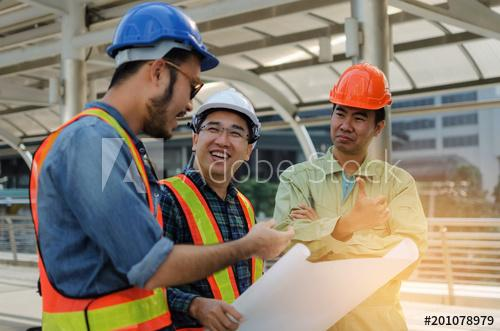helmet: (105, 3, 220, 73), (192, 89, 263, 143), (329, 63, 395, 112)
